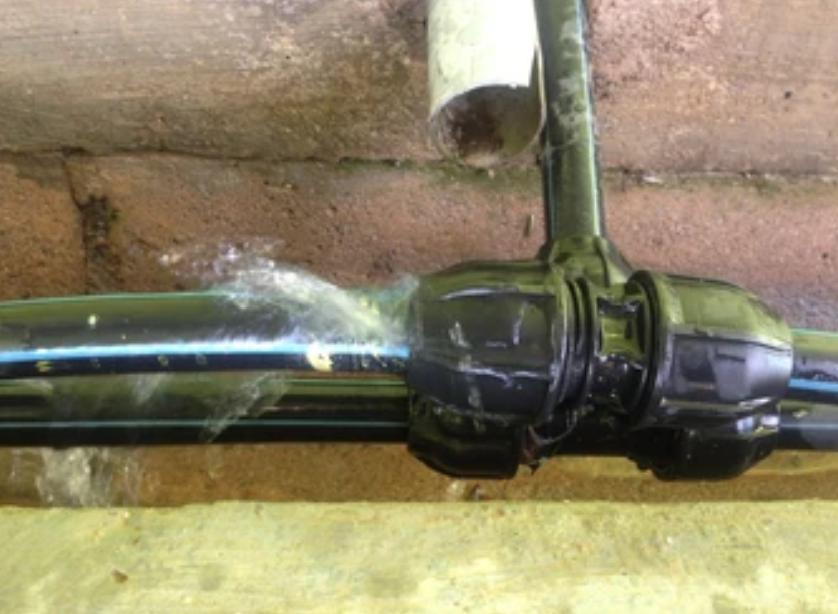pipe burst: (189, 238, 420, 350), (12, 442, 146, 510)
